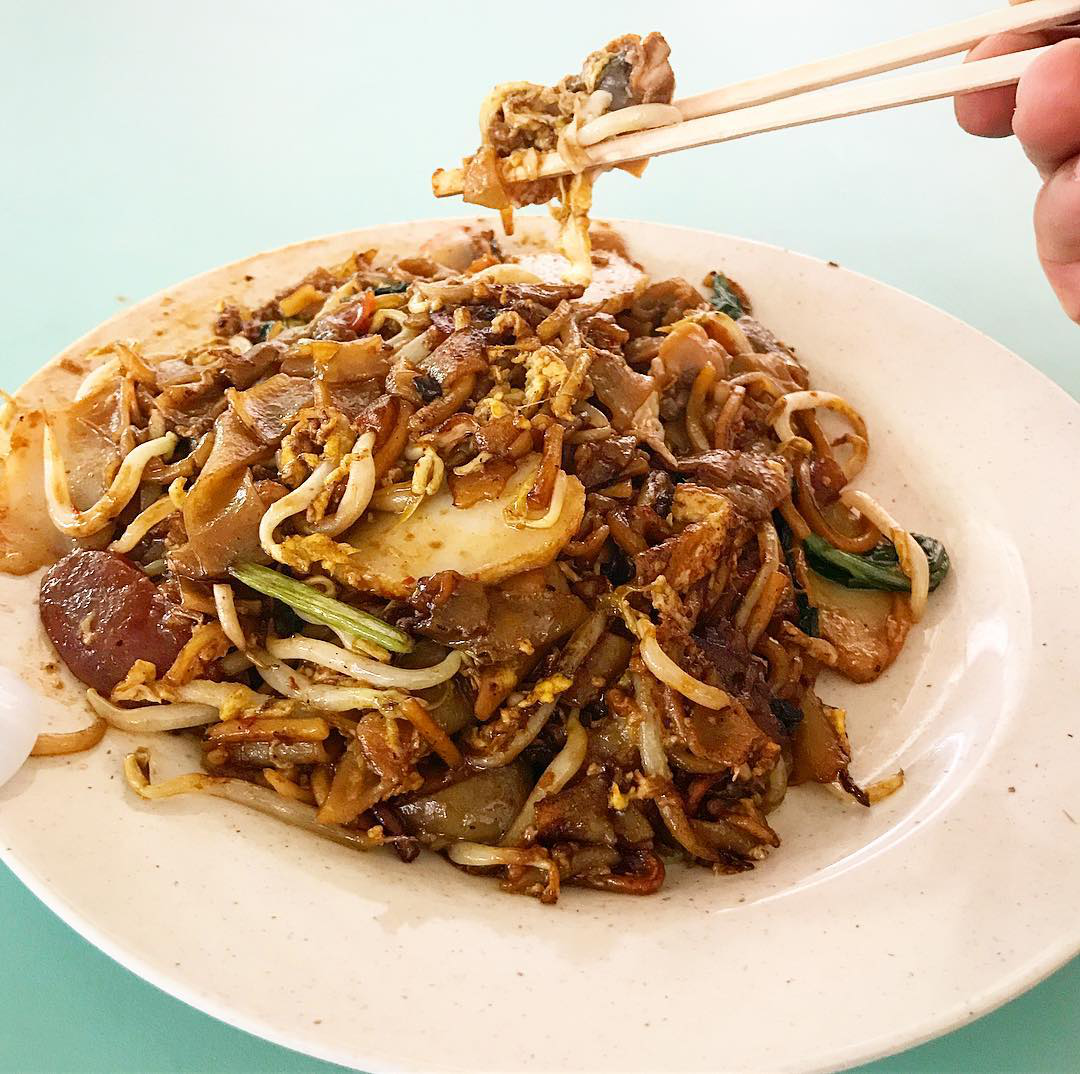Char Kway Teow: (42, 232, 953, 883)
